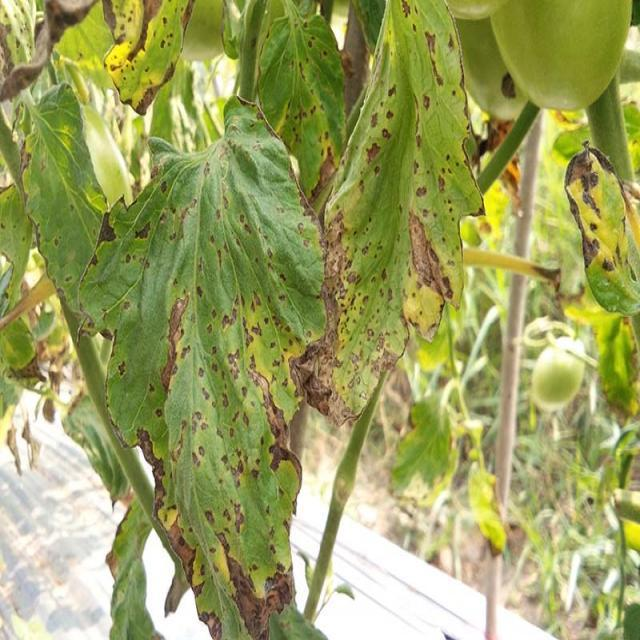Bacterial Spot: (126, 206, 310, 611), (339, 0, 470, 420), (264, 8, 342, 192), (100, 0, 190, 107), (52, 192, 82, 287)
